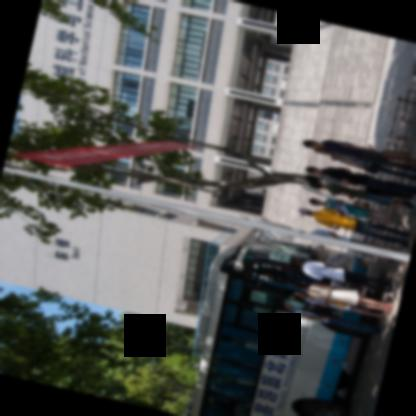backpack: (293, 306, 335, 316), (312, 304, 340, 311)
handbag: (305, 292, 349, 307), (376, 148, 412, 160), (338, 199, 369, 209), (364, 167, 379, 173)
suitcase: (382, 148, 412, 159)
